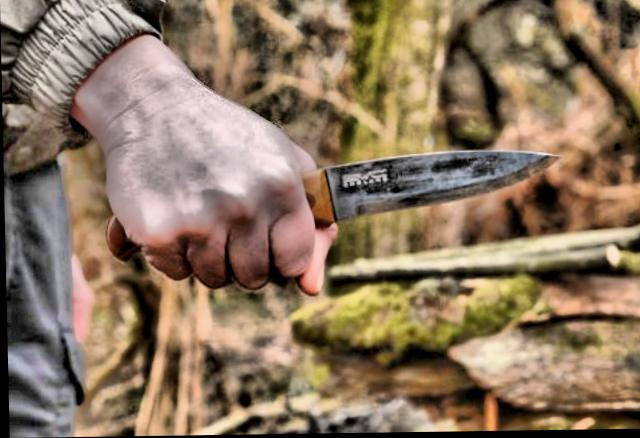knife: (94, 143, 568, 301)
